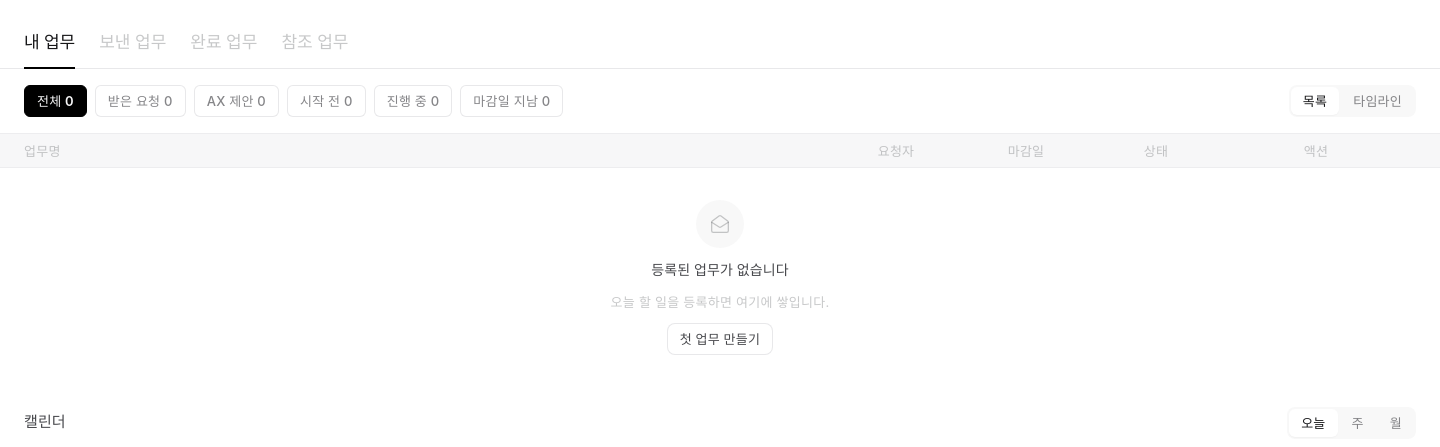
work relation information architecture › 우 레일에 회의가 서고, 탭을 바꿔도 회의는 그대로다 (K23·K24)
(page scrolled)
Click the tab "보낸 업무" at (133, 42), box 99,16 -> 166,68
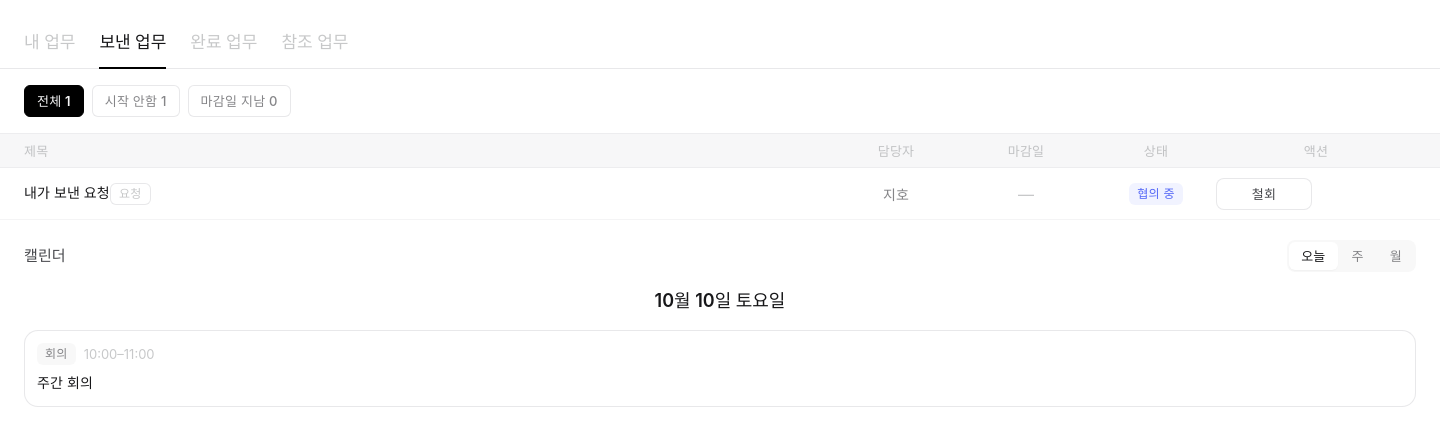
expect the text "주간 회의" is shown: met, box 37,374 -> 93,391
expect the text "내가 보낸 요청" is shown: met, box 24,184 -> 110,201
